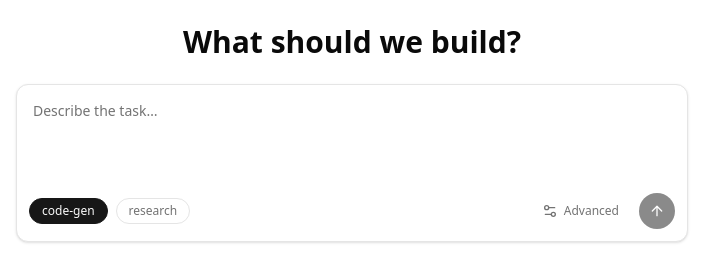
TaskCreate (chat composer) › shows an inline field error on 400 invalid_input and keeps the input
The image size is (705, 273).
Type "p" into the text box with test id "prompt-input" at (352, 141), box 29,97 -> 675,185
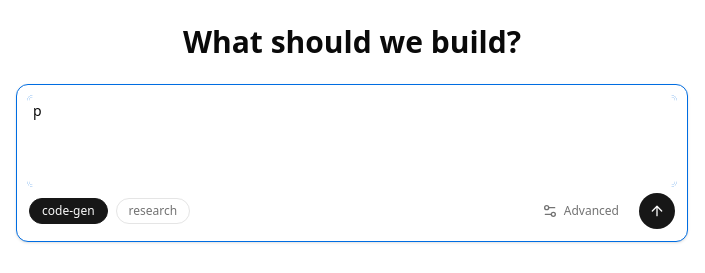
Click the button with test id "submit-button" at (657, 211), box 639,193 -> 675,229
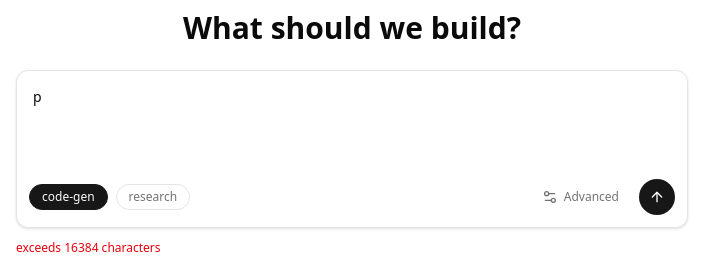
Check: the text "exceeds 16384 characters" is shown, box 16,239 -> 160,256
